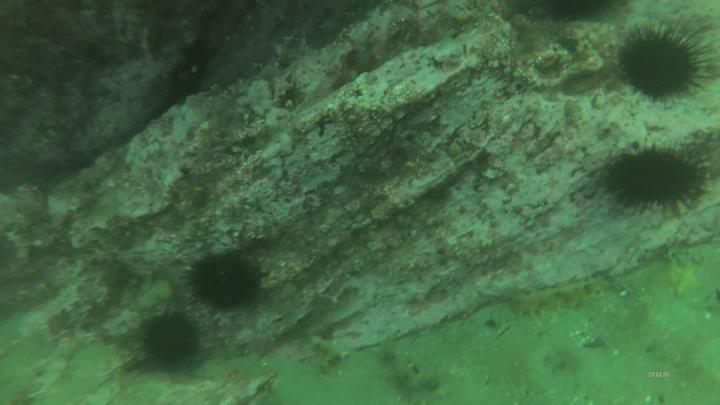echinus: (598, 133, 718, 224), (612, 24, 719, 113), (183, 250, 276, 320), (134, 304, 209, 375)
holothurian: (510, 275, 609, 315)
